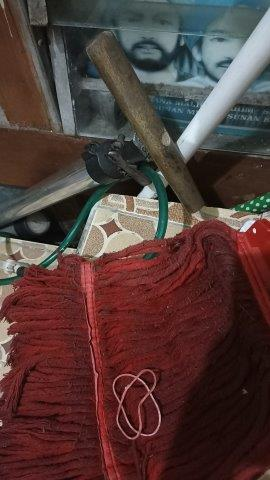karet: (112, 368, 163, 440)
